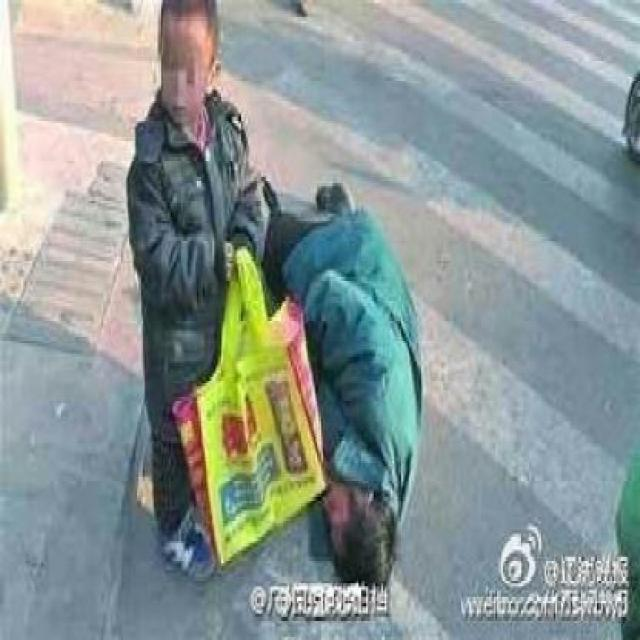fall: (250, 117, 430, 589)
